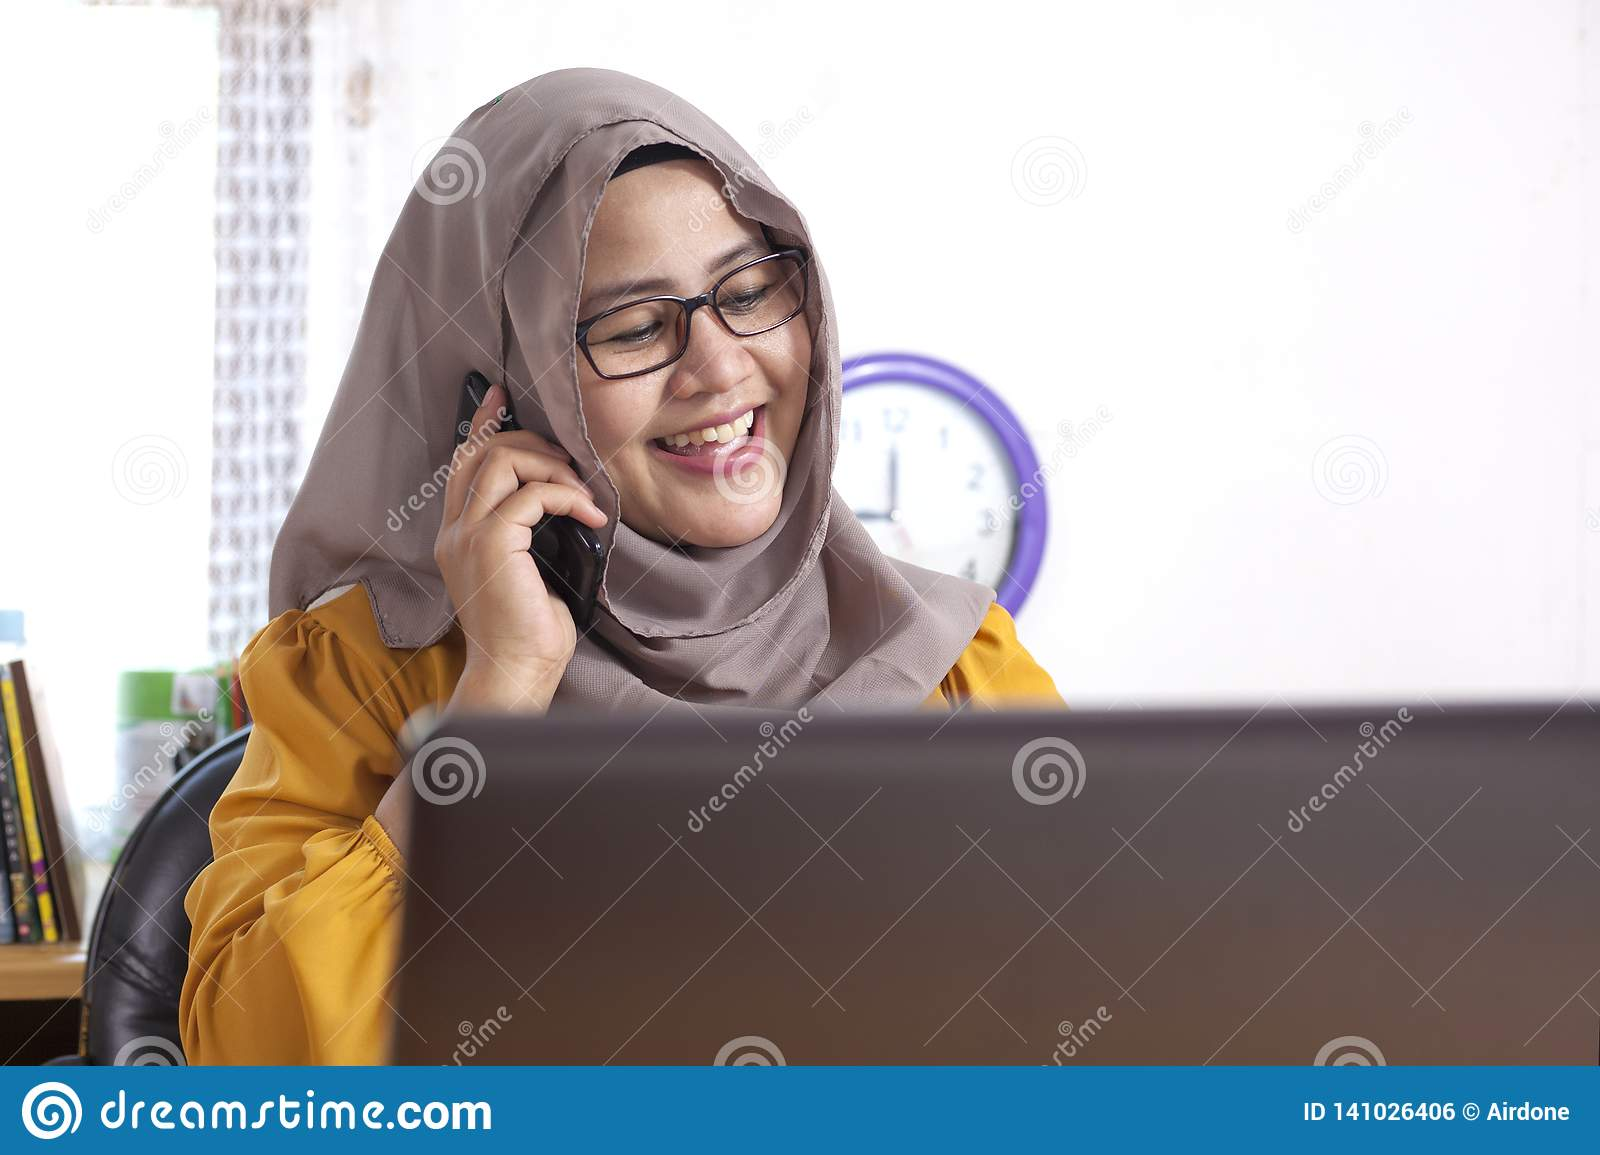phone: (440, 342, 609, 635)
talk: (439, 207, 812, 698)
